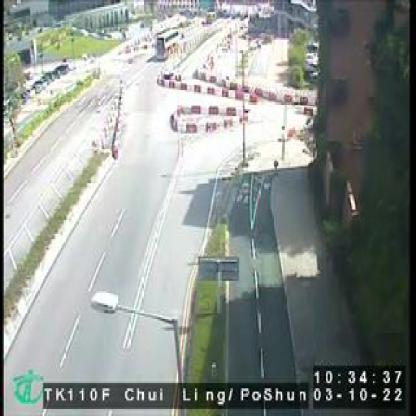Bus: (155, 28, 177, 57)
